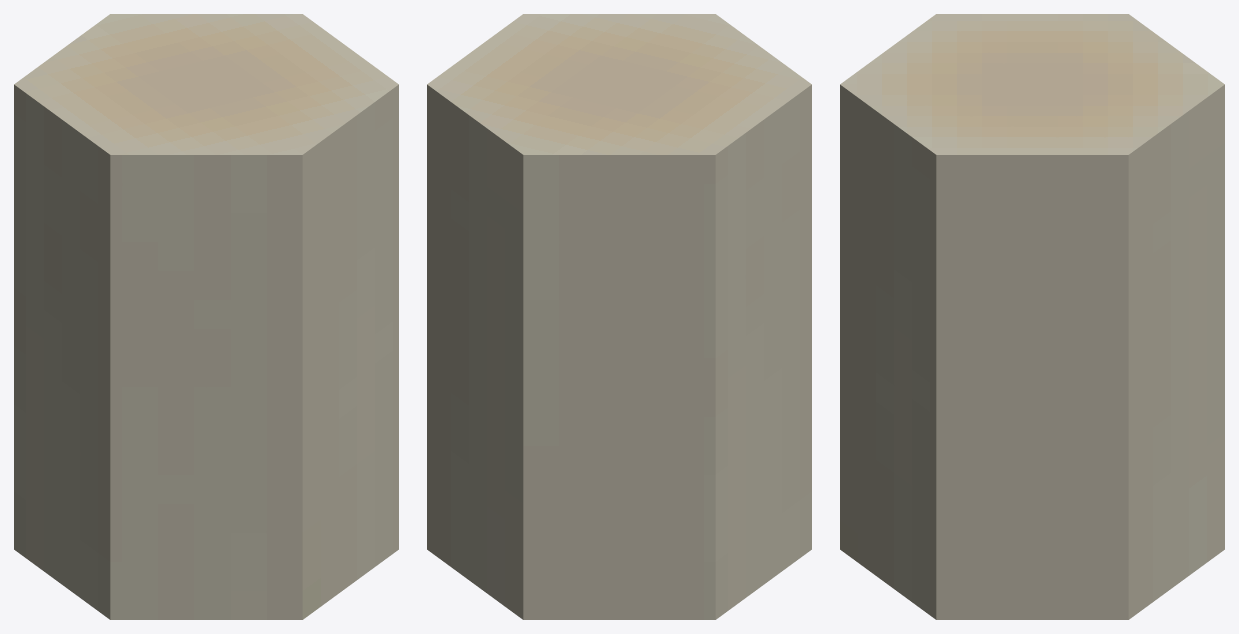
File: Pillar.fbx
3 views of the same model, side by side, from view 1: azimuth 30°, elevation 25°; view 2: azimuth 150°, elevation 25°; view 3: azimuth 270°, elevation 25° (orthographic).
Parts seen in each view (by area): view 1: Pillar; view 2: Pillar; view 3: Pillar.
Boxes of the visible parts, x1,y1,x2,y2 form: Pillar: (14,14,398,619); Pillar: (427,14,811,619); Pillar: (840,14,1224,619).
Size of the model in its own units: 130 by 200 by 150.
